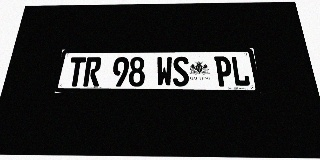8: (128, 57, 145, 86)
9: (111, 57, 129, 86)
L: (230, 56, 251, 86)
P: (214, 56, 233, 86)
R: (83, 57, 102, 86)
S: (173, 56, 189, 86)
T: (66, 57, 86, 86)
W: (156, 57, 172, 86)
